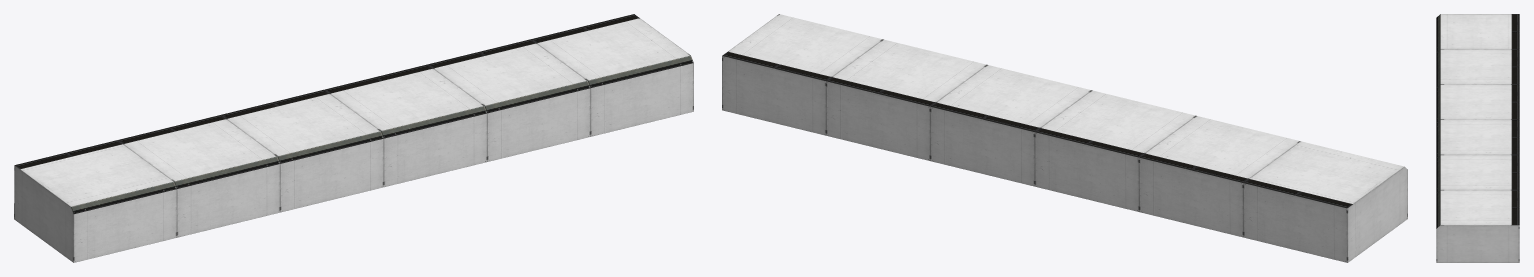
Rendered from Emb_Window_01_Walkway.FBX.
3 renders of one model, left to right at view 1: azimuth 30°, elevation 25°; view 2: azimuth 150°, elevation 25°; view 3: azimuth 270°, elevation 25°, orthographic. The views are drawn at different scales.
Visible parts, largest first — view 1: Emb_Window_01_Walkway; view 2: Emb_Window_01_Walkway; view 3: Emb_Window_01_Walkway.
Part boxes in pixels (<box>): Emb_Window_01_Walkway: <box>14,14,693,262</box>; Emb_Window_01_Walkway: <box>722,14,1407,262</box>; Emb_Window_01_Walkway: <box>1436,14,1519,262</box>.
Size of the model in its own units: 12.01 by 1 by 2.
